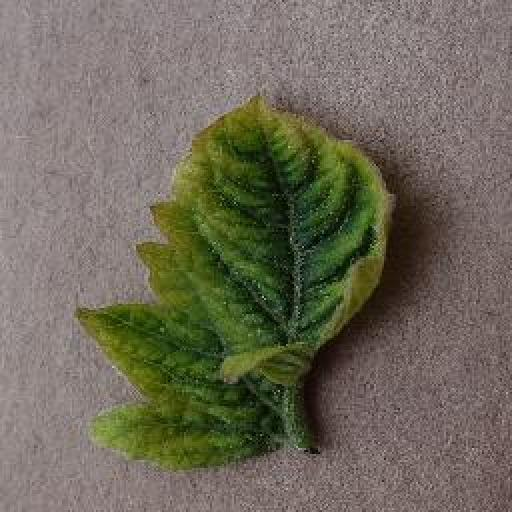disease_tomato: (70, 91, 392, 477)
